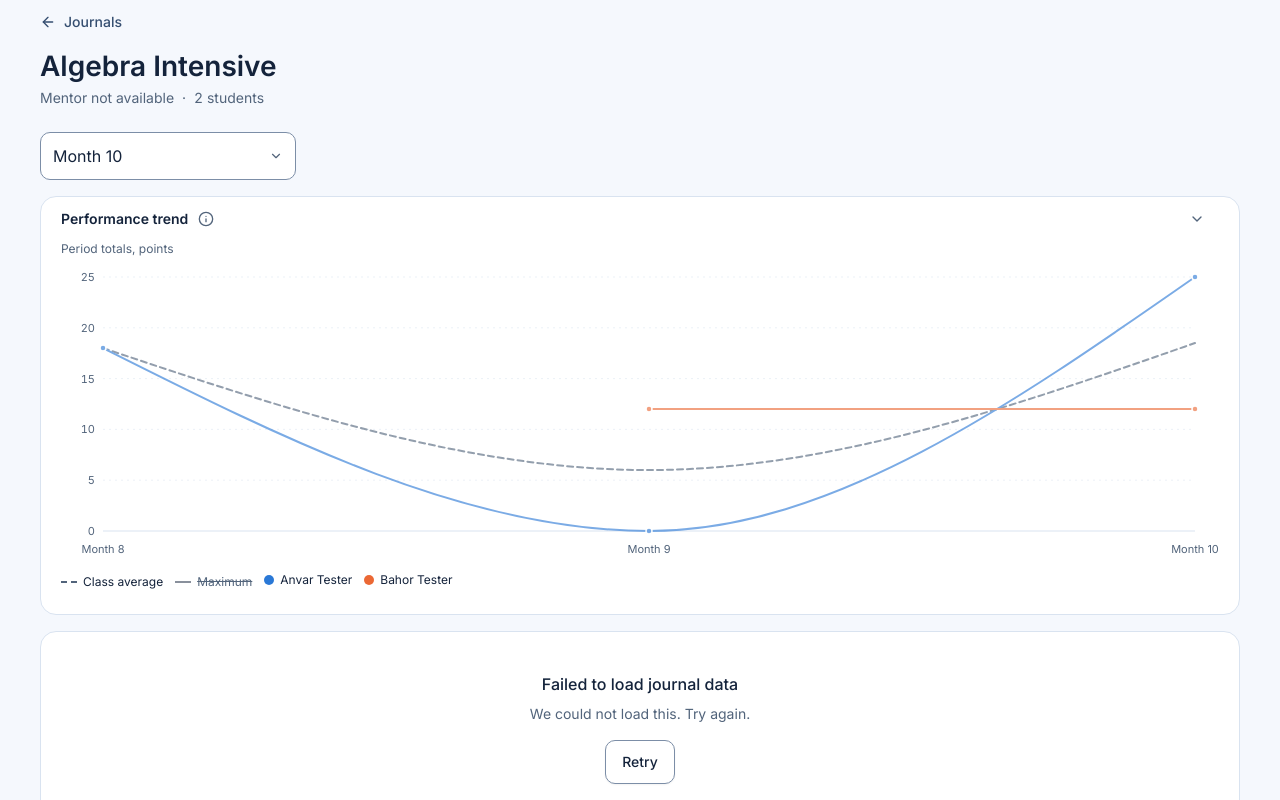
Test: four states › shows a grid skeleton while the selected journal loads and a working retry when it fails
Check: the text "Failed to load journal data" is shown, box [542,672,738,696]
Click the button "Retry": (640, 762) [605,740,675,784]
(page scrolled)
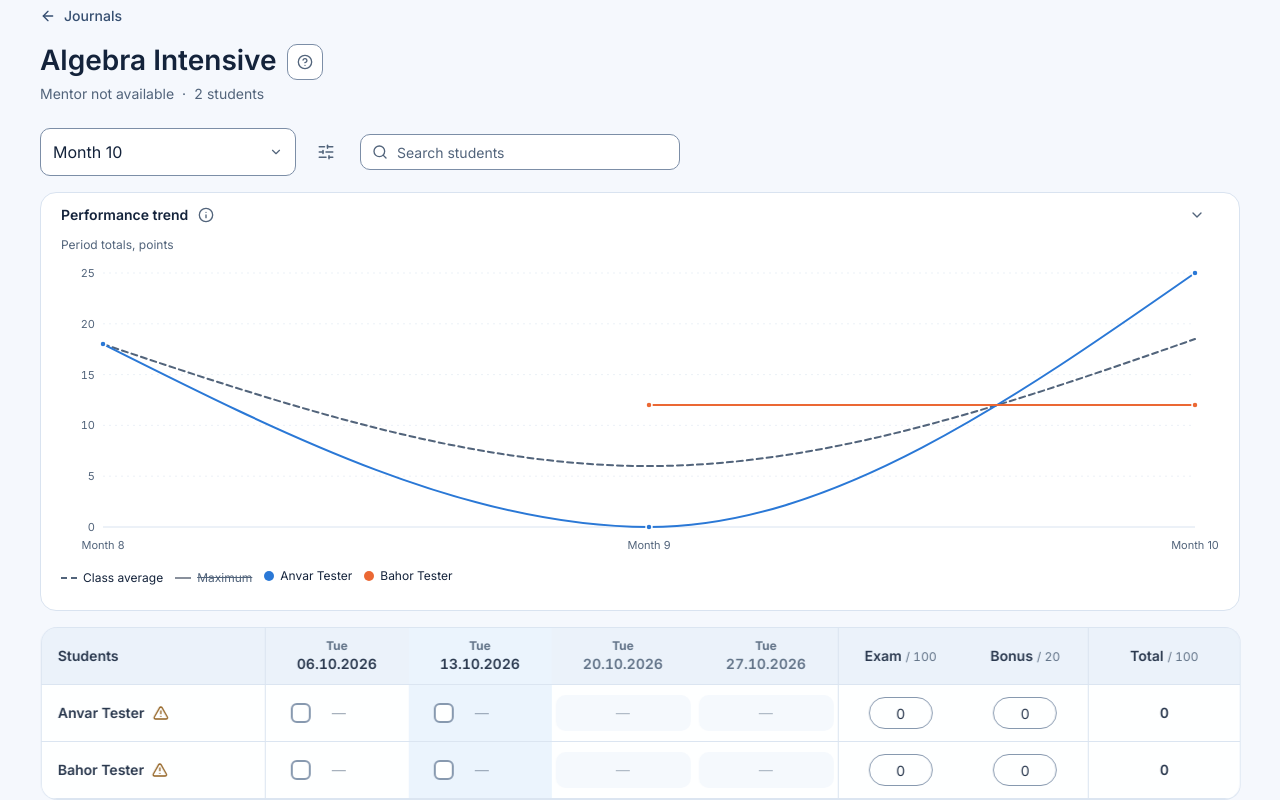
Check: the element named "Gradebook grid" is shown, box [40,685,1240,799]
